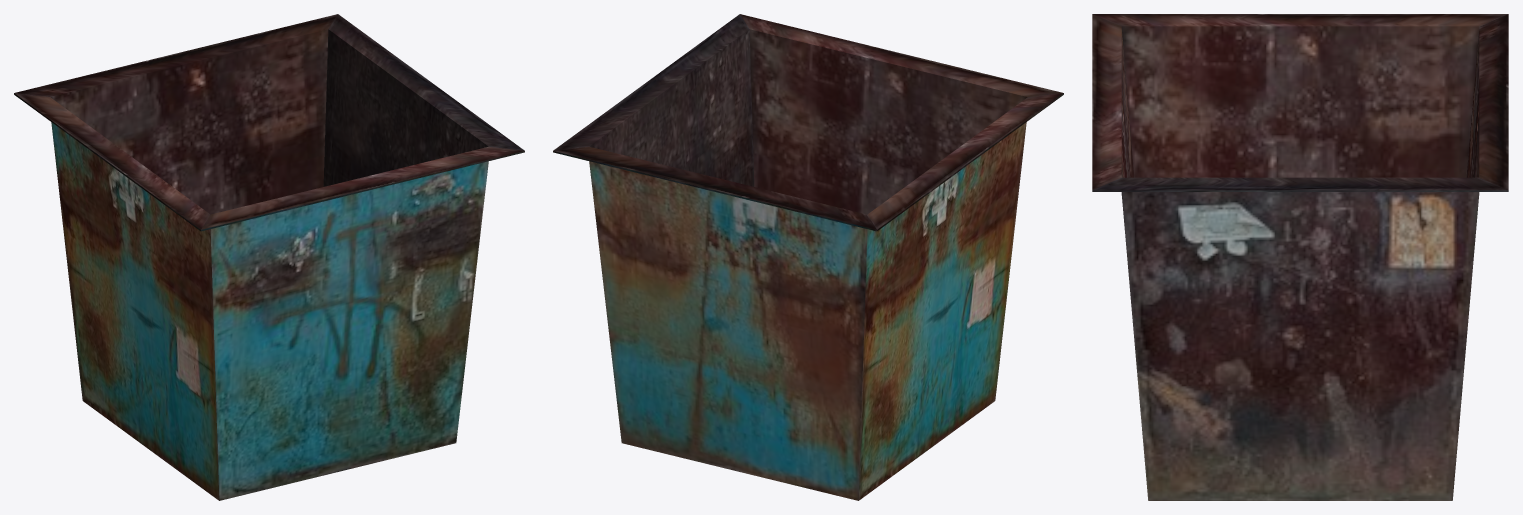
The model's file is dumpster_blue.glb.
3 views of the same model, side by side, from view 1: azimuth 30°, elevation 25°; view 2: azimuth 150°, elevation 25°; view 3: azimuth 270°, elevation 25° (orthographic). The views are drawn at different scales.
Parts seen in each view (by area): view 1: dumpster_blue; view 2: dumpster_blue; view 3: dumpster_blue.
Boxes of the visible parts, bbox=[...] form: dumpster_blue: bbox=[14, 14, 524, 500]; dumpster_blue: bbox=[553, 14, 1063, 500]; dumpster_blue: bbox=[1092, 14, 1508, 500].
Bounding box in the file's own units: 1.35 × 1.19 × 1.35.
Materials: 1 (1 with a texture image).
